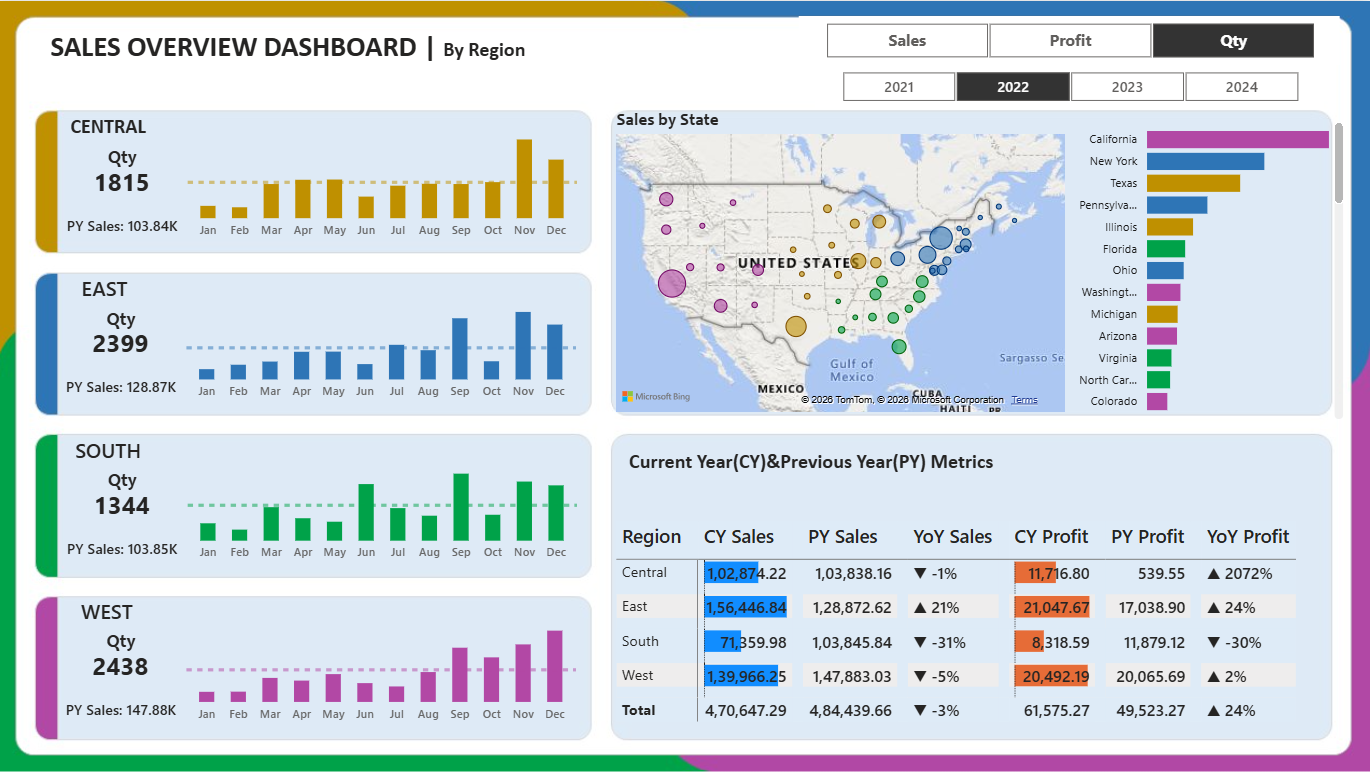

This screenshot's page, from the dashboard's own definition file:
{"tool":"powerbi","page":{"name":"Page 1","canvas":[1280,720],"ordinal":0},"visuals":[{"type":"slicer","fields":{"Values":["Select Metric.Select Metric"]},"box":[747.7,14,503.5,45.3],"z":0},{"type":"card","fields":{"Values":["Sales Data.Total Sales"]},"box":[61.6,153.5,112.8,32.6],"z":0,"group":"g1"},{"type":"card","fields":{"Values":["Sales Data.Total Sales"]},"box":[60.3,303.6,112.8,32.6],"z":0,"group":"g2"},{"type":"card","fields":{"Values":["Sales Data.Total Sales"]},"box":[61.6,453.7,112.8,32.6],"z":0,"group":"g3"},{"type":"card","fields":{"Values":["Sales Data.Total Sales"]},"box":[60.7,603.5,112.8,32.6],"z":0,"group":"g4"},{"type":"slicer","fields":{"Values":["Calendar Table.Year"]},"box":[762.8,59.3,473.3,40.7],"z":1000},{"type":"textbox","box":[43.9,100.2,122.1,38.4],"z":1000,"group":"g1"},{"type":"textbox","box":[42.6,250.3,122.1,38.4],"z":1000,"group":"g2"},{"type":"textbox","box":[43.9,400.4,122.1,38.4],"z":1000,"group":"g3"},{"type":"textbox","box":[43,550.2,122.1,38.4],"z":1000,"group":"g4"},{"type":"textbox","box":[11,20.6,524.2,49.4],"z":2000},{"type":"card","fields":{"Values":["Sales Data.Dynamic Title"]},"box":[76.7,129.1,83.7,34.9],"z":2000,"group":"g1"},{"type":"card","fields":{"Values":["Sales Data.Dynamic Title"]},"box":[75.4,279.2,83.7,34.9],"z":2000,"group":"g2"},{"type":"card","fields":{"Values":["Sales Data.Dynamic Title"]},"box":[76.7,429.3,83.7,34.9],"z":2000,"group":"g3"},{"type":"card","fields":{"Values":["Sales Data.Dynamic Title"]},"box":[75.8,579.1,83.7,34.9],"z":2000,"group":"g4"},{"type":"group","id":"g1","title":"Group 1","box":[30.2,100,516.3,137.2],"z":3000},{"type":"card","fields":{"Values":["Sales Data.PY KPI Sales"]},"box":[30.2,186,176.7,51.2],"z":3000,"group":"g1"},{"type":"card","fields":{"Values":["Sales Data.PY KPI Sales"]},"box":[28.9,336.1,176.7,51.2],"z":3000,"group":"g2"},{"type":"card","fields":{"Values":["Sales Data.PY KPI Sales"]},"box":[30.2,486.2,176.7,51.2],"z":3000,"group":"g3"},{"type":"card","fields":{"Values":["Sales Data.PY KPI Sales"]},"box":[29.3,636,176.7,51.2],"z":3000,"group":"g4"},{"type":"clusteredColumnChart","fields":{"Y":["Sales Data.Total Sales"],"Category":["Calendar Table.Month"]},"box":[174.4,100,372.1,130.2],"z":4000,"group":"g1"},{"type":"group","id":"g2","title":"Group 1","box":[28.9,250.1,517.3,137.2],"z":4000},{"type":"clusteredColumnChart","fields":{"Y":["Sales Data.Total Sales"],"Category":["Calendar Table.Month"]},"box":[173.1,250.1,372.1,130.2],"z":4000,"group":"g2"},{"type":"clusteredColumnChart","fields":{"Y":["Sales Data.Total Sales"],"Category":["Calendar Table.Month"]},"box":[174.4,400.2,372.1,130.2],"z":4000,"group":"g3"},{"type":"clusteredColumnChart","fields":{"Y":["Sales Data.Total Sales"],"Category":["Calendar Table.Month"]},"box":[173.5,550,372.1,130.2],"z":4000,"group":"g4"},{"type":"group","id":"g3","title":"Group 1","box":[30.2,400.2,517.4,137.2],"z":5000},{"type":"group","id":"g4","title":"Group 1","box":[29.3,550,517.4,137.2],"z":6000},{"type":"map","title":"Sales by State","fields":{"Size":["Sales Data.Total Sales"],"Category":["Sales Data.State/Province"],"Series":["Sales Data.Region"]},"box":[573.3,100,426.7,287.2],"z":7000},{"type":"barChart","fields":{"Y":["Sales Data.Total Sales"],"Category":["Sales Data.State/Province"],"Series":["Sales Data.Region"]},"box":[991.9,100,267.4,294.2],"z":8000},{"type":"pivotTable","fields":{"Rows":["Sales Data.Region"],"Values":["Sales Data.CY Sales","Sales Data.PY Sales","Sales Data.YoY Sales","Sales Data.CY Profit","Sales Data.PY Profit","Sales Data.YoY Profit"]},"box":[573.8,478.8,662.5,200],"z":9000},{"type":"textbox","box":[585,411.2,433.8,58.8],"z":10000}]}

Visuals, with their boxes in screenshot pixels (x1, y1, x2, y2), scaled from the page's 1280x720 canvas onto the 1370x772 screenshot:
slicer - Select Metric.Select Metric: (800,15,1339,64)
card - Sales Data.Total Sales: (66,165,187,200)
card - Sales Data.Total Sales: (65,326,185,360)
card - Sales Data.Total Sales: (66,486,187,521)
card - Sales Data.Total Sales: (65,647,186,682)
slicer - Calendar Table.Year: (816,64,1323,107)
textbox: (47,107,178,149)
textbox: (46,268,176,310)
textbox: (47,429,178,470)
textbox: (46,590,177,631)
textbox: (12,22,573,75)
card - Sales Data.Dynamic Title: (82,138,172,176)
card - Sales Data.Dynamic Title: (81,299,170,337)
card - Sales Data.Dynamic Title: (82,460,172,498)
card - Sales Data.Dynamic Title: (81,621,171,658)
"Group 1" group: (32,107,585,254)
card - Sales Data.PY KPI Sales: (32,199,221,254)
card - Sales Data.PY KPI Sales: (31,360,220,415)
card - Sales Data.PY KPI Sales: (32,521,221,576)
card - Sales Data.PY KPI Sales: (31,682,220,737)
clusteredColumnChart - Sales Data.Total Sales x Calendar Table.Month: (187,107,585,247)
"Group 1" group: (31,268,585,415)
clusteredColumnChart - Sales Data.Total Sales x Calendar Table.Month: (185,268,584,408)
clusteredColumnChart - Sales Data.Total Sales x Calendar Table.Month: (187,429,585,569)
clusteredColumnChart - Sales Data.Total Sales x Calendar Table.Month: (186,590,584,729)
"Group 1" group: (32,429,586,576)
"Group 1" group: (31,590,585,737)
"Sales by State" map: (614,107,1070,415)
barChart - Sales Data.Total Sales x Sales Data.State/Province: (1062,107,1348,423)
pivotTable - Sales Data.Region x Sales Data.CY Sales: (614,513,1323,728)
textbox: (626,441,1090,504)
